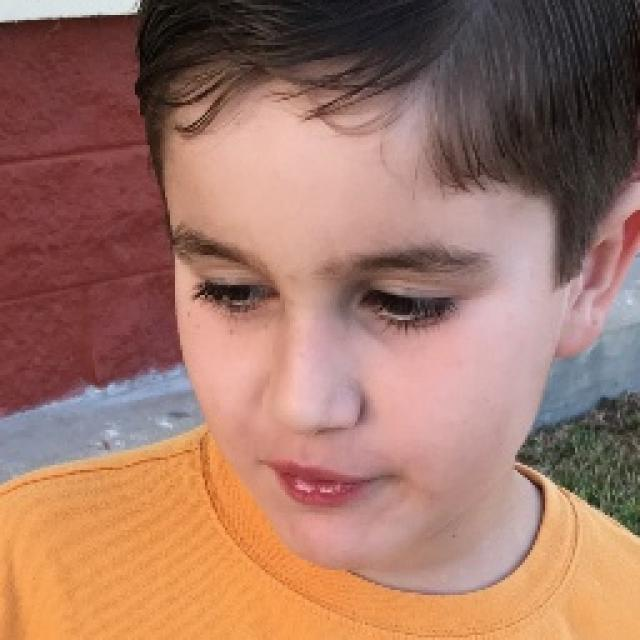earlobe: (554, 179, 640, 359)
